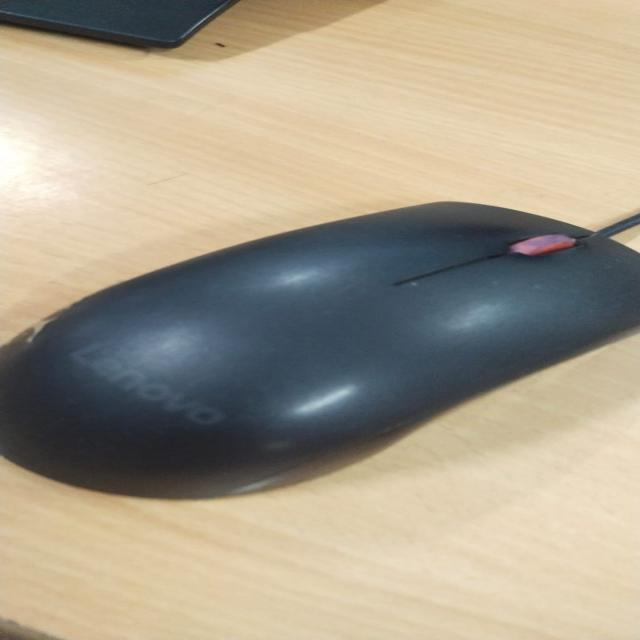mouse: (72, 177, 640, 508)
